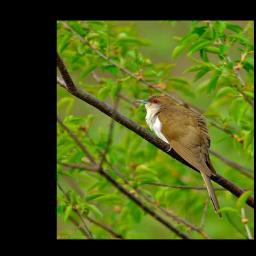Cuckoo: (134, 93, 223, 220)
